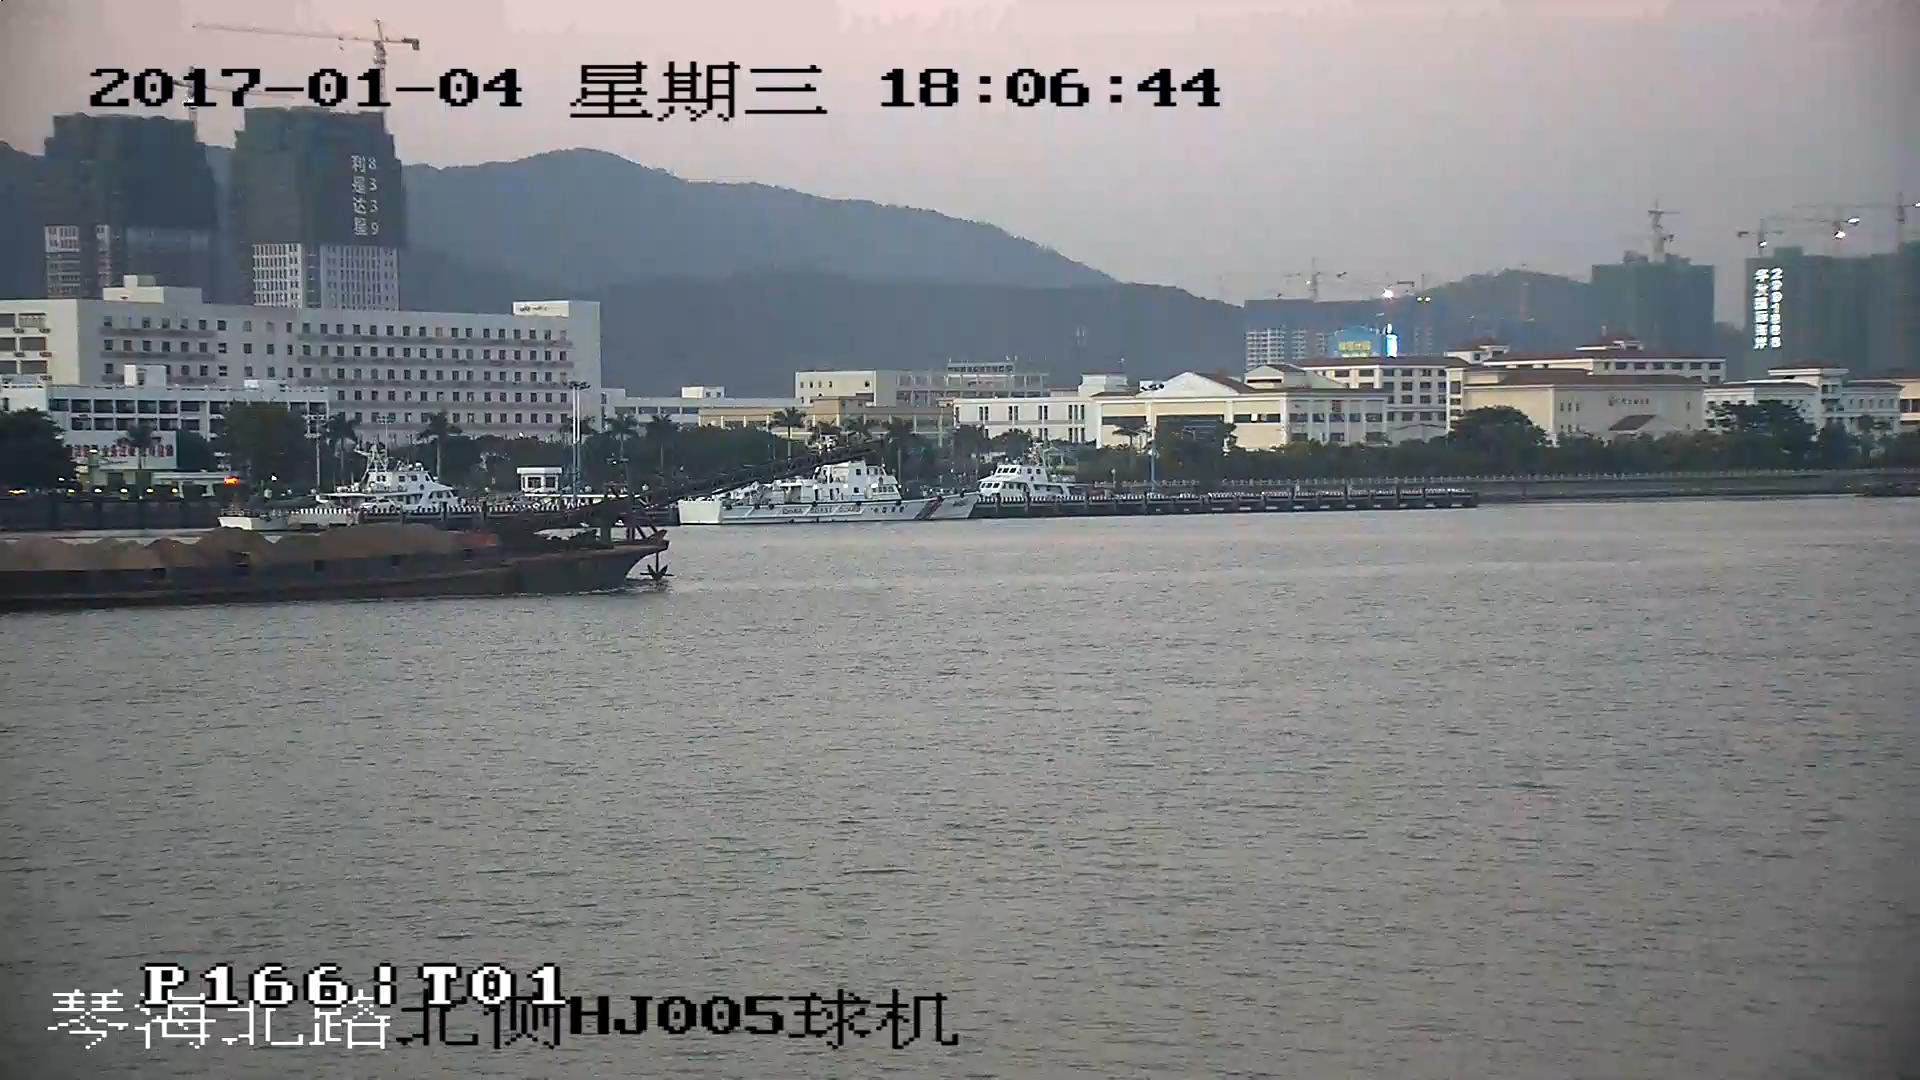ore carrier: (1, 453, 840, 609)
